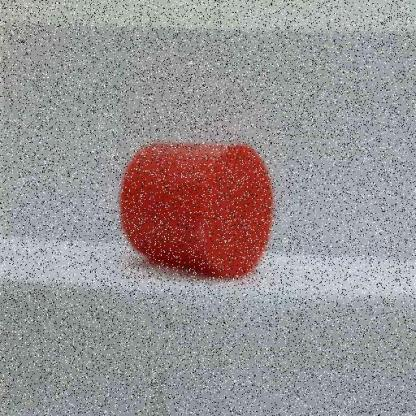circle: (118, 141, 273, 281)
